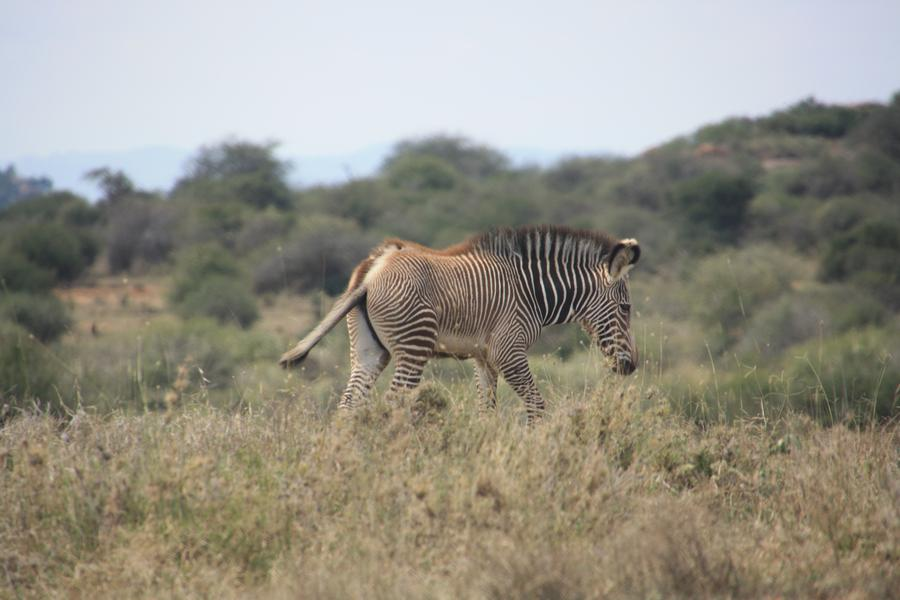zebra_grevys: (351, 236, 537, 347)
